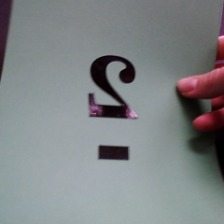green2: (79, 51, 147, 166)
